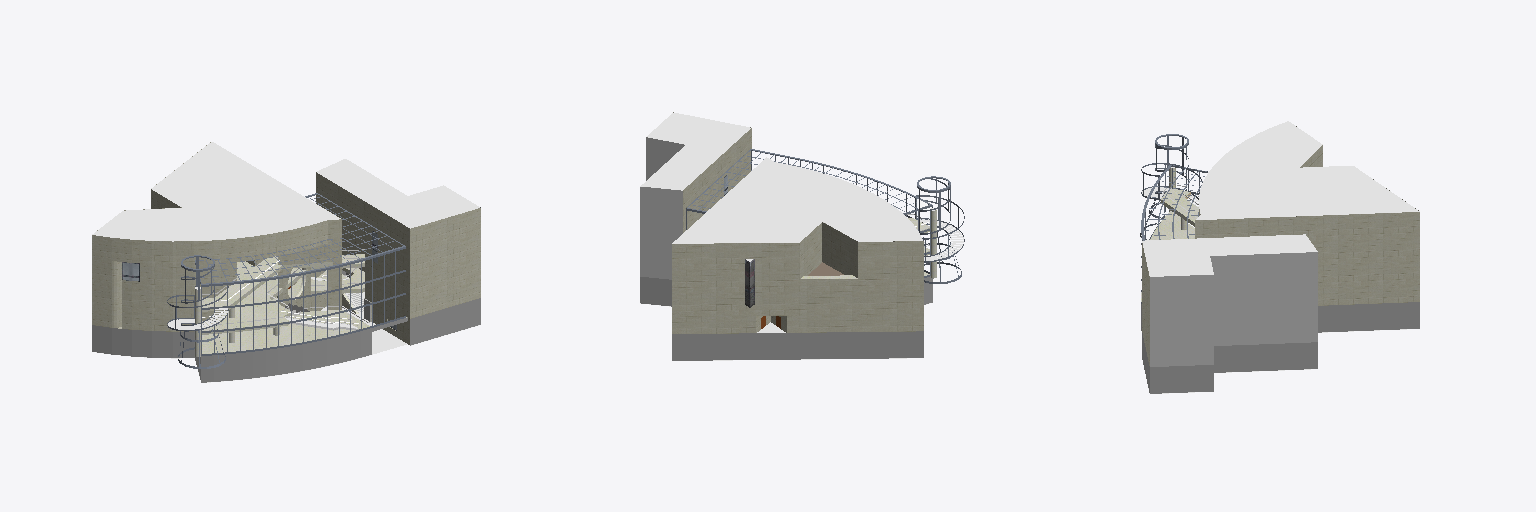
The picture shows the model from 3 angles: view 1: azimuth 30°, elevation 25°; view 2: azimuth 150°, elevation 25°; view 3: azimuth 270°, elevation 25°; orthographic projection.
Visible parts, largest first — view 1: EDIFICIOS-PARQUE; view 2: EDIFICIOS-PARQUE; view 3: EDIFICIOS-PARQUE.
Part boxes in pixels (x1,y1,x2,y2): EDIFICIOS-PARQUE: (92, 142, 480, 382); EDIFICIOS-PARQUE: (640, 112, 964, 360); EDIFICIOS-PARQUE: (1140, 121, 1419, 393).
Bounding box in the file's own units: 123 × 44.08 × 93.19.
Materials: 15 (5 with a texture image).